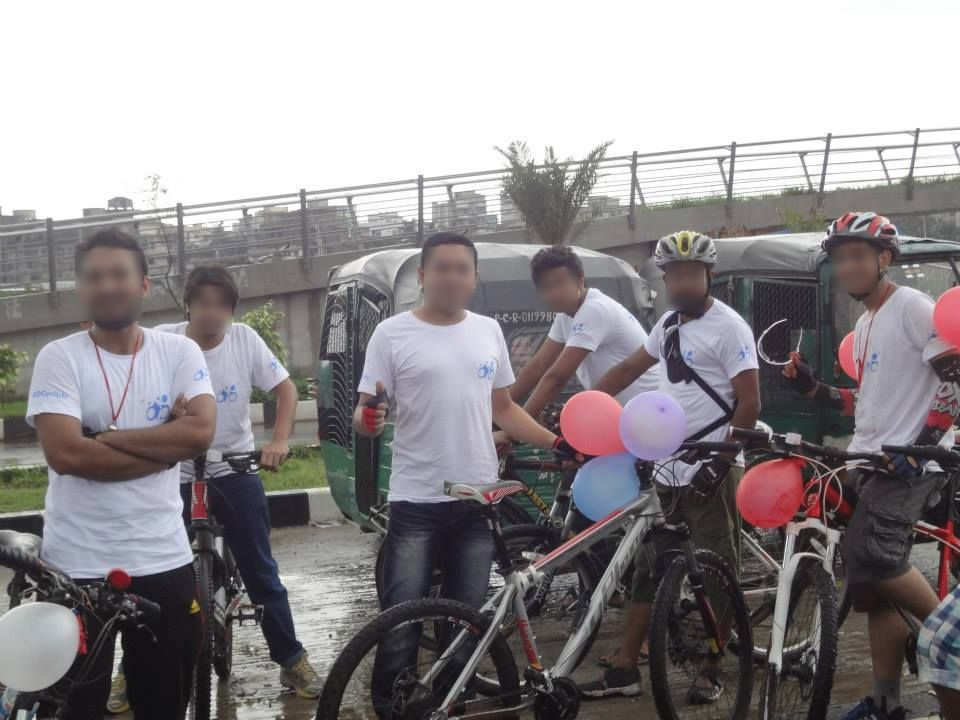bicycle: (309, 436, 764, 719), (722, 409, 957, 719), (149, 442, 261, 717)
cng: (303, 213, 652, 543), (644, 209, 958, 449)
